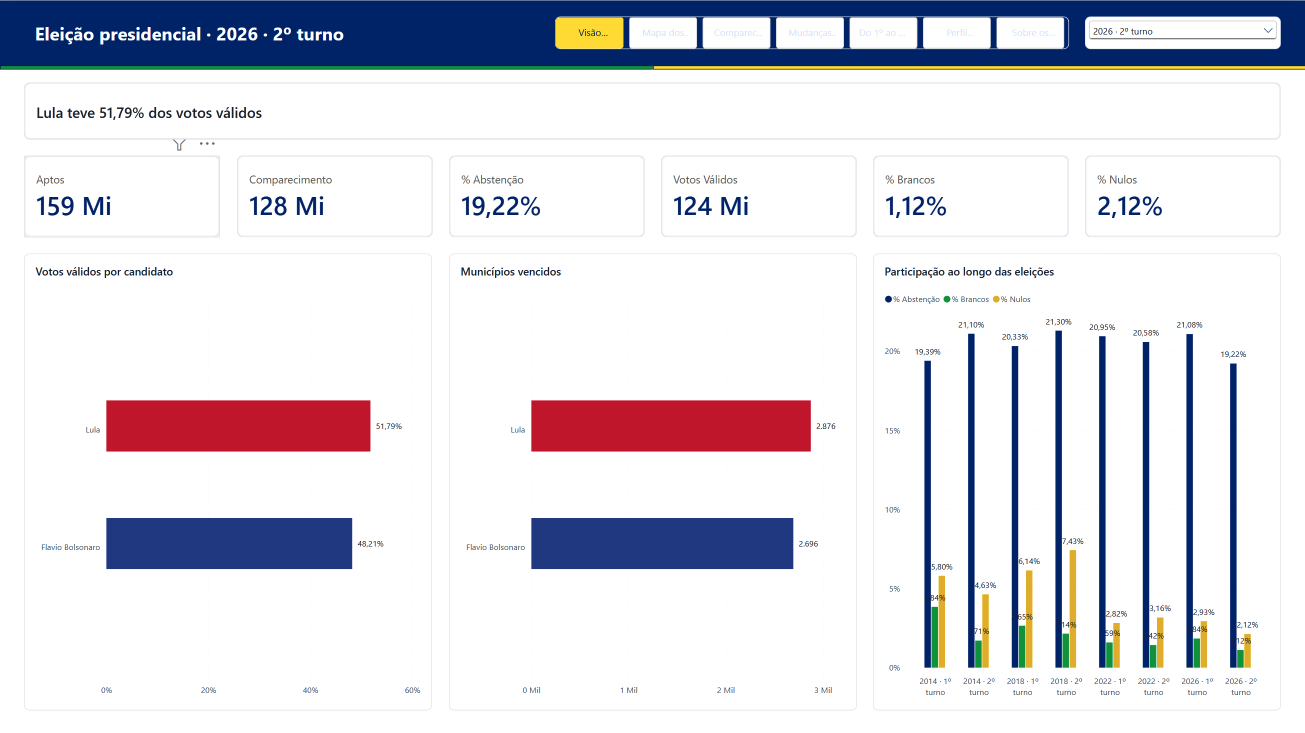

The page's visual inventory and layout, read from the dashboard file:
{"tool":"powerbi","page":{"name":"Visão Nacional","canvas":[1920,1080],"ordinal":0},"visuals":[{"type":"shape","box":[0,0,1920,96],"z":0},{"type":"shape","box":[0,96,960,6],"z":1000},{"type":"shape","box":[960,96,960,6],"z":2000},{"type":"cardVisual","fields":{"Data":["_Medidas.Título Eleição"]},"box":[36,24,756,48],"z":3000},{"type":"pageNavigator","box":[816,24,756,48],"z":4000},{"type":"slicer","fields":{"Values":["dTurno.rotulo_turno"]},"box":[1596,24,288,48],"z":5000},{"type":"cardVisual","fields":{"Data":["_Medidas.Aptos"]},"box":[36,228,288,120],"z":6000},{"type":"cardVisual","fields":{"Data":["_Medidas.Comparecimento"]},"box":[348,228,288,120],"z":7000},{"type":"cardVisual","fields":{"Data":["_Medidas.% Abstenção"]},"box":[660,228,288,120],"z":8000},{"type":"cardVisual","fields":{"Data":["_Medidas.Votos Válidos"]},"box":[972,228,288,120],"z":9000},{"type":"cardVisual","fields":{"Data":["_Medidas.% Brancos"]},"box":[1284,228,288,120],"z":10000},{"type":"cardVisual","fields":{"Data":["_Medidas.% Nulos"]},"box":[1596,228,288,120],"z":11000},{"type":"cardVisual","fields":{"Data":["_Medidas.Resumo Vencedor"]},"box":[36,120,1848,84],"z":12000},{"type":"barChart","title":"Votos válidos por candidato","fields":{"Category":["dCandidato.nm_urna"],"Y":["_Medidas.% Votos Válidos"]},"box":[36,372,600,672],"z":13000},{"type":"barChart","title":"Municípios vencidos","fields":{"Category":["dCandidato.nm_urna"],"Y":["_Medidas.Municípios Vencidos"]},"box":[660,372,600,672],"z":14000},{"type":"clusteredColumnChart","title":"Participação ao longo das eleições","fields":{"Category":["dTurno.rotulo_turno"],"Y":["_Medidas.% Abstenção","_Medidas.% Brancos","_Medidas.% Nulos"]},"box":[1284,372,600,672],"z":15000}]}

Visuals, with their boxes in screenshot pixels (x1, y1, x2, y2), scaled from the page's 1920x1080 canvas onto the 1305x733 screenshot:
shape: 0/0/1304/65
shape: 0/65/652/69
shape: 652/65/1304/69
cardVisual - _Medidas.Título Eleição: 24/16/538/49
pageNavigator: 555/16/1068/49
slicer - dTurno.rotulo_turno: 1085/16/1281/49
cardVisual - _Medidas.Aptos: 24/155/220/236
cardVisual - _Medidas.Comparecimento: 237/155/432/236
cardVisual - _Medidas.% Abstenção: 449/155/644/236
cardVisual - _Medidas.Votos Válidos: 661/155/856/236
cardVisual - _Medidas.% Brancos: 873/155/1068/236
cardVisual - _Medidas.% Nulos: 1085/155/1281/236
cardVisual - _Medidas.Resumo Vencedor: 24/81/1281/138
"Votos válidos por candidato" barChart: 24/252/432/709
"Municípios vencidos" barChart: 449/252/856/709
"Participação ao longo das eleições" clusteredColumnChart: 873/252/1281/709
